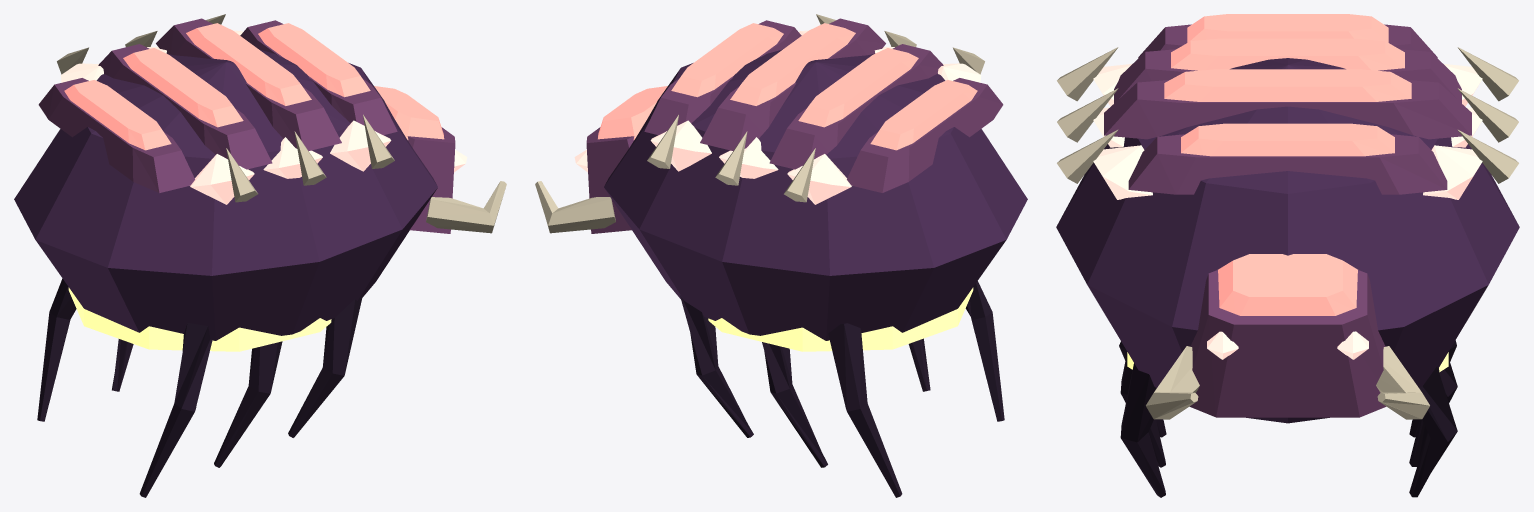
The model's file is drift_sac.glb.
The picture shows the model from 3 angles, left to right: view 1: azimuth 30°, elevation 25°; view 2: azimuth 150°, elevation 25°; view 3: azimuth 270°, elevation 25°; orthographic projection. The views are drawn at different scales.
Parts seen in each view (by area): view 1: Surf_chit, Surf_warm, Surf_TEAM, Surf_dark, Surf_bone, Surf_GLOW, Surf_acid; view 2: Surf_chit, Surf_warm, Surf_TEAM, Surf_dark, Surf_bone, Surf_GLOW, Surf_acid; view 3: Surf_chit, Surf_warm, Surf_TEAM, Surf_bone, Surf_dark, Surf_GLOW.
Boxes of the visible parts, x1,y1,x2,y2 form: Surf_chit: [14, 49, 437, 340]; Surf_warm: [38, 18, 455, 233]; Surf_TEAM: [64, 23, 444, 150]; Surf_dark: [37, 278, 362, 497]; Surf_bone: [57, 14, 506, 233]; Surf_GLOW: [60, 30, 467, 204]; Surf_acid: [68, 287, 331, 351]; Surf_chit: [604, 49, 1027, 340]; Surf_warm: [586, 18, 1003, 233]; Surf_TEAM: [598, 23, 977, 150]; Surf_dark: [679, 281, 1004, 497]; Surf_bone: [535, 14, 984, 233]; Surf_GLOW: [574, 30, 981, 204]; Surf_acid: [708, 287, 973, 351]; Surf_chit: [1056, 58, 1519, 423]; Surf_warm: [1104, 24, 1471, 417]; Surf_TEAM: [1164, 14, 1411, 315]; Surf_bone: [1057, 47, 1518, 419]; Surf_dark: [1119, 340, 1457, 497]; Surf_GLOW: [1093, 64, 1482, 359].
Bounding box in the file's own units: 3.04 × 2.45 × 2.28.
